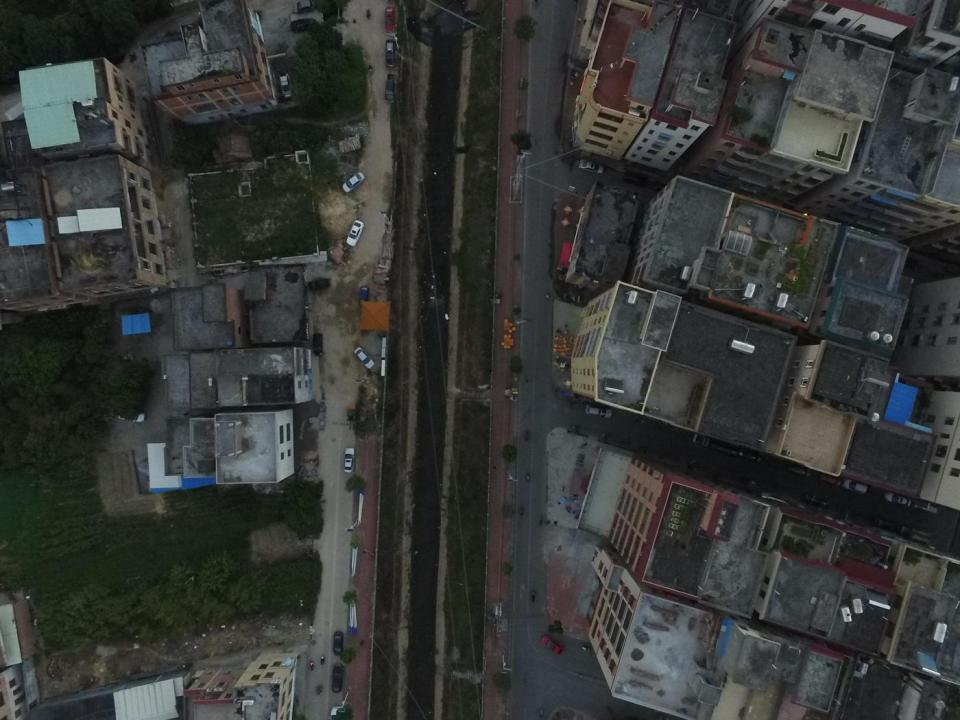car: (353, 346, 376, 371), (342, 171, 366, 194), (540, 635, 565, 656), (345, 220, 364, 247), (584, 404, 613, 419), (577, 159, 605, 174), (331, 662, 343, 694), (384, 5, 397, 33), (384, 39, 397, 67), (117, 412, 147, 423), (307, 278, 331, 291), (344, 447, 355, 474), (333, 630, 344, 657), (358, 285, 371, 307), (312, 332, 323, 356)
truck: (384, 74, 397, 104)
van: (278, 72, 293, 98)
